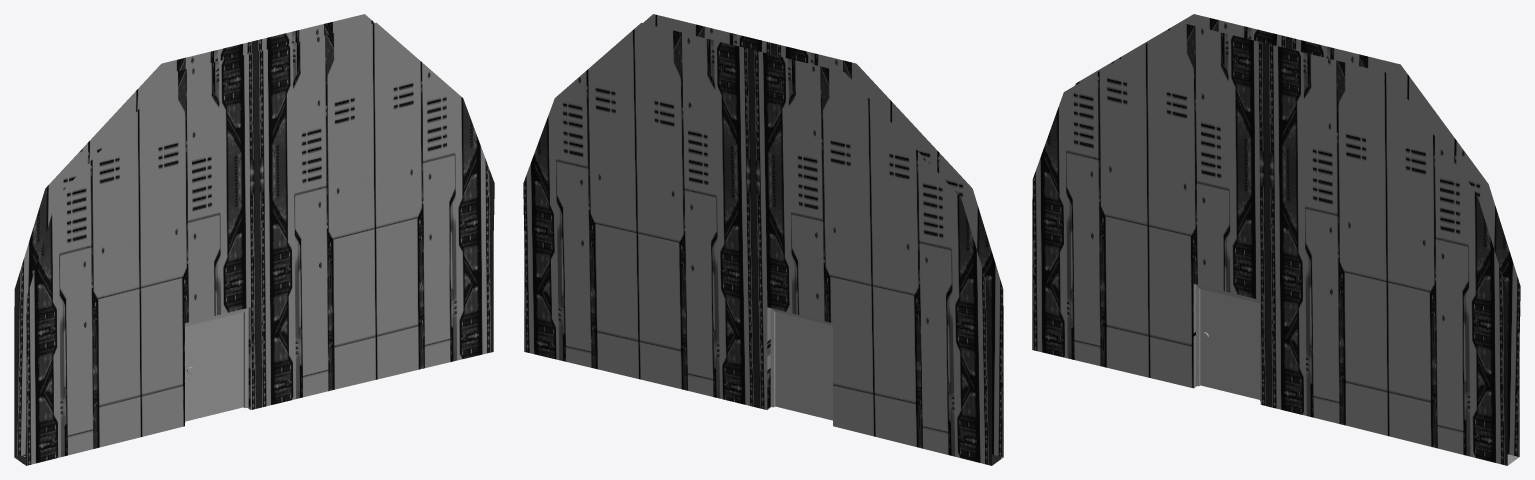
File: single door wall (1).fbx
3 renders of one model, left to right at view 1: azimuth 30°, elevation 25°; view 2: azimuth 150°, elevation 25°; view 3: azimuth 330°, elevation 25°, orthographic.
Visible parts, largest first — view 1: wall, door; view 2: wall, door; view 3: wall, door.
Part boxes in pixels (x1=…): wall: x1=14, y1=14, x2=494, y2=465; door: x1=185, y1=308, x2=248, y2=422; wall: x1=523, y1=14, x2=1003, y2=465; door: x1=770, y1=308, x2=832, y2=420; wall: x1=1032, y1=14, x2=1520, y2=465; door: x1=1196, y1=284, x2=1260, y2=401.
Size of the model in its own units: 2276 by 1660 by 100.
2 materials, 1 textured.
